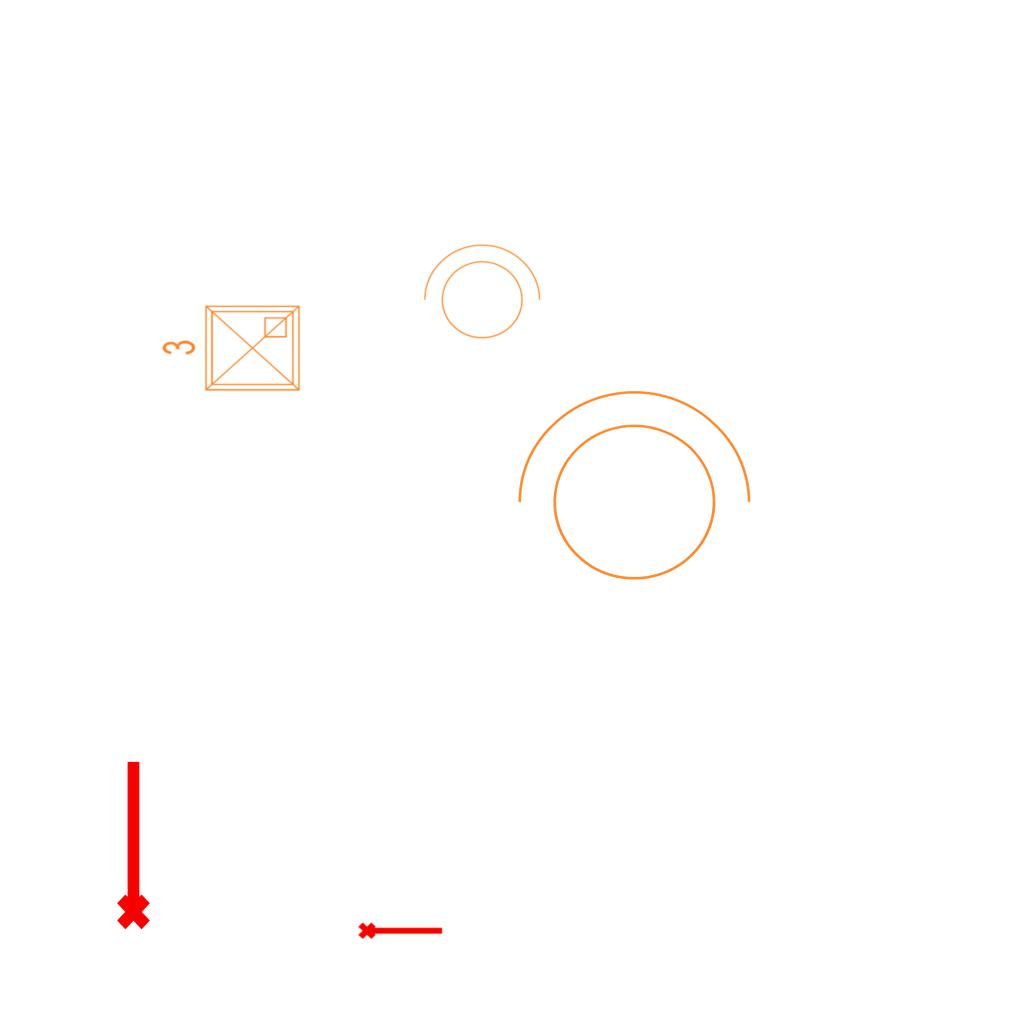ASR_Ansaugoeffnung: (108, 756, 154, 932), (357, 918, 445, 941)
Einbaudownlights_LED_Konferenzraeume: (157, 298, 307, 402)
Scheinwerfer_fuer_Alarmbeleuchtung: (496, 380, 760, 605), (413, 239, 545, 351)
